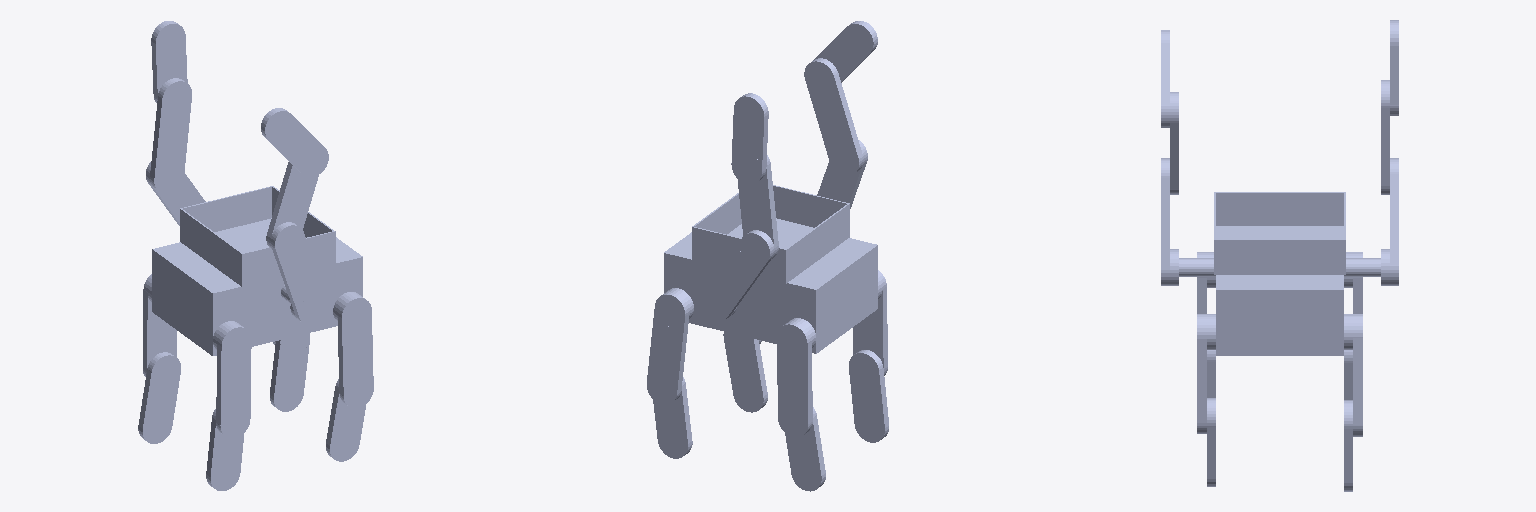
--- Facts derived from the render (not from the file) ---
Views: 3 orthographic renders of the robot side by side, from view 1: azimuth 30°, elevation 25°; view 2: azimuth 150°, elevation 25°; view 3: azimuth 270°, elevation 25°.
Robot: Project2_Assembly — 37 links, 36 joints (14 continuous, 22 fixed); root link dummy_link; default pose: all joints at 0.
Links seen in each view (by area): view 1: base_link, platform_link, right_arm_link5, right_arm_link3, left_front_hip_link1, left_rear_hip_link1, right_rear_knee_link1, left_arm_link3, left_rear_knee_link1, left_arm_link5, right_front_knee_link1, left_arm_link1 (+13 smaller); view 2: base_link, platform_link, left_arm_link3, right_arm_link5, right_front_hip_link1, right_rear_hip_link1, left_front_knee_link1, right_arm_link3, left_rear_knee_link1, left_arm_link5, right_rear_knee_link1, right_arm_link1 (+13 smaller); view 3: platform_link, base_link, right_arm_link, left_arm_link, right_rear_hip_link1, left_rear_hip_link1, left_arm_link1, right_arm_link1, right_arm_link5, right_arm_link3, left_arm_link5, left_arm_link3 (+4 smaller).
Boxes of the visible links, x1,y1,x2,y2 form: base_link: [152, 237, 362, 355]; platform_link: [180, 186, 335, 286]; right_arm_link5: [151, 21, 187, 97]; right_arm_link3: [150, 97, 191, 178]; left_front_hip_link1: [216, 341, 251, 425]; left_rear_hip_link1: [337, 314, 373, 395]; right_rear_knee_link1: [270, 341, 309, 411]; left_arm_link3: [267, 162, 318, 235]; left_rear_knee_link1: [326, 387, 365, 461]; left_arm_link5: [261, 108, 323, 172]; right_front_knee_link1: [138, 370, 180, 443]; left_arm_link1: [272, 237, 327, 317]; base_link: [664, 232, 877, 353]; platform_link: [692, 185, 849, 283]; left_arm_link3: [805, 73, 862, 157]; right_arm_link5: [731, 93, 768, 171]; right_front_hip_link1: [777, 341, 812, 423]; right_rear_hip_link1: [647, 309, 689, 393]; left_front_knee_link1: [849, 368, 888, 442]; right_arm_link3: [738, 164, 778, 247]; left_rear_knee_link1: [724, 339, 767, 412]; left_arm_link5: [814, 21, 877, 82]; right_rear_knee_link1: [653, 384, 692, 458]; right_arm_link1: [703, 240, 770, 318]; platform_link: [1214, 192, 1345, 274]; base_link: [1216, 275, 1343, 355]; right_arm_link: [1344, 249, 1398, 285]; left_arm_link: [1161, 249, 1215, 285]; right_rear_hip_link1: [1353, 338, 1362, 424]; left_rear_hip_link1: [1197, 339, 1206, 422]; left_arm_link1: [1161, 178, 1169, 269]; right_arm_link1: [1390, 174, 1398, 264]; right_arm_link5: [1390, 20, 1398, 104]; right_arm_link3: [1381, 108, 1389, 185]; left_arm_link5: [1161, 30, 1169, 104]; left_arm_link3: [1170, 123, 1178, 188].
Bounding box of the posed robot: 0.2837 × 0.3302 × 0.6388 m (x, y, z).
Meshes: 36 distinct files referenced, 36 mesh visuals loaded (36 binary STL).

robot.urdf — Project2_Assembly:
<?xml version="1.0" encoding="utf-8"?>
<!-- This URDF was automatically created by SolidWorks to URDF Exporter! Originally created by Stephen Brawner ([email redacted]) 
     Commit Version: 1.5.1-0-g916b5db  Build Version: 1.5.7152.31018
     For more information, please see http://wiki.ros.org/sw_urdf_exporter -->
<robot
  name="Project2_Assembly">
  <link
    name="dummy_link">
  </link>
  <joint
    name="dummy_joint"
    type="fixed">
    <parent
      link="dummy_link" />
    <child
      link="base_link" />
  </joint>
  <link
    name="base_link">
    <inertial>
      <origin
        xyz="-0.185748920268411 0.185789407892482 -0.798271405453909"
        rpy="0 0 0" />
      <mass
        value="4.36700755653188" />
      <inertia
        ixx="0.030365726134738"
        ixy="0.00652149162392971"
        ixz="0.00297506888940774"
        iyy="0.0178204642076725"
        iyz="0.000563260489121419"
        izz="0.0284925976105569" />
    </inertial>
    <visual>
      <origin
        xyz="0 0 0"
        rpy="0 0 0" />
      <geometry>
        <mesh
          filename="package://Project2_Assembly/meshes/base_link.STL" />
      </geometry>
      <material
        name="">
        <color
          rgba="0.792156862745098 0.819607843137255 0.933333333333333 1" />
      </material>
    </visual>
    <collision>
      <origin
        xyz="0 0 0"
        rpy="0 0 0" />
      <geometry>
        <mesh
          filename="package://Project2_Assembly/meshes/base_link.STL" />
      </geometry>
    </collision>
  </link>
  <link
    name="platform_link">
    <inertial>
      <origin
        xyz="8.32667268468867E-17 -5.55111512312578E-17 0.00454448000326668"
        rpy="0 0 0" />
      <mass
        value="0.221453327467568" />
      <inertia
        ixx="0.000766812354982266"
        ixy="3.04931861011548E-20"
        ixz="-1.01813360259967E-18"
        iyy="0.00100112681592481"
        iyz="1.21972744404619E-18"
        izz="0.00157928891231331" />
    </inertial>
    <visual>
      <origin
        xyz="0 0 0"
        rpy="0 0 0" />
      <geometry>
        <mesh
          filename="package://Project2_Assembly/meshes/platform_link.STL" />
      </geometry>
      <material
        name="">
        <color
          rgba="0.792156862745098 0.819607843137255 0.933333333333333 1" />
      </material>
    </visual>
    <collision>
      <origin
        xyz="0 0 0"
        rpy="0 0 0" />
      <geometry>
        <mesh
          filename="package://Project2_Assembly/meshes/platform_link.STL" />
      </geometry>
    </collision>
  </link>
  <joint
    name="platform_joint"
    type="fixed">
    <origin
      xyz="0 0 0"
      rpy="0 0 1.5707963267949" />
    <parent
      link="base_link" />
    <child
      link="platform_link" />
    <axis
      xyz="0 0 0" />
  </joint>
  <link
    name="left_arm_link">
    <inertial>
      <origin
        xyz="5.55111512312578E-17 -1.11022302462516E-16 0.0269203616457798"
        rpy="0 0 0" />
      <mass
        value="0.0772222198144585" />
      <inertia
        ixx="4.25551704324029E-05"
        ixy="1.6940658945086E-21"
        ixz="-2.5410988417629E-20"
        iyy="4.25551704324029E-05"
        iyz="9.95396061921811E-20"
        izz="1.8682757750811E-05" />
    </inertial>
    <visual>
      <origin
        xyz="0 0 0"
        rpy="0 0 0" />
      <geometry>
        <mesh
          filename="package://Project2_Assembly/meshes/left_arm_link.STL" />
      </geometry>
      <material
        name="">
        <color
          rgba="0.792156862745098 0.819607843137255 0.933333333333333 1" />
      </material>
    </visual>
    <collision>
      <origin
        xyz="0 0 0"
        rpy="0 0 0" />
      <geometry>
        <mesh
          filename="package://Project2_Assembly/meshes/left_arm_link.STL" />
      </geometry>
    </collision>
  </link>
  <joint
    name="left_arm_joint"
    type="fixed">
    <origin
      xyz="0 -0.112779638354221 -0.0279400000000001"
      rpy="-1.57079632679486 1.49005517178331 -3.14159265358976" />
    <parent
      link="base_link" />
    <child
      link="left_arm_link" />
    <axis
      xyz="0 0 1" />
  </joint>
  <link
    name="left_arm_link1">
    <inertial>
      <origin
        xyz="0.0634999999999999 -7.76462227847219E-14 0.0040296383542201"
        rpy="0 0 0" />
      <mass
        value="0.0561945800618472" />
      <inertia
        ixx="1.42240417239566E-05"
        ixy="2.92460359654413E-17"
        ixz="-4.70103285726137E-20"
        iyy="3.81793048154064E-05"
        iyz="8.470329472543E-21"
        izz="5.08927425696672E-05" />
    </inertial>
    <visual>
      <origin
        xyz="0 0 0"
        rpy="0 0 0" />
      <geometry>
        <mesh
          filename="package://Project2_Assembly/meshes/left_arm_link1.STL" />
      </geometry>
      <material
        name="">
        <color
          rgba="0.792156862745098 0.819607843137255 0.933333333333333 1" />
      </material>
    </visual>
    <collision>
      <origin
        xyz="0 0 0"
        rpy="0 0 0" />
      <geometry>
        <mesh
          filename="package://Project2_Assembly/meshes/left_arm_link1.STL" />
      </geometry>
    </collision>
  </link>
  <joint
    name="left_arm_joint1"
    type="continuous">
    <origin
      xyz="0 0 0.0499999999999999"
      rpy="3.14159265358979 0 -2.73383166744153" />
    <parent
      link="left_arm_link" />
    <child
      link="left_arm_link1" />
    <axis
      xyz="0 0 1" />
  </joint>
  <link
    name="left_arm_link2">
    <inertial>
      <origin
        xyz="-1.52655665885959E-15 2.4980018054066E-16 -0.0103796383542208"
        rpy="0 0 0" />
      <mass
        value="0.0514814798763058" />
      <inertia
        ixx="1.10712638523325E-05"
        ixy="4.76456032830544E-22"
        ixz="-1.48230765769503E-20"
        iyy="1.10712638523325E-05"
        iyz="1.47171974585435E-20"
        izz="1.66068957784987E-05" />
    </inertial>
    <visual>
      <origin
        xyz="0 0 0"
        rpy="0 0 0" />
      <geometry>
        <mesh
          filename="package://Project2_Assembly/meshes/left_arm_link2.STL" />
      </geometry>
      <material
        name="">
        <color
          rgba="0.792156862745098 0.819607843137255 0.933333333333333 1" />
      </material>
    </visual>
    <collision>
      <origin
        xyz="0 0 0"
        rpy="0 0 0" />
      <geometry>
        <mesh
          filename="package://Project2_Assembly/meshes/left_arm_link2.STL" />
      </geometry>
    </collision>
  </link>
  <joint
    name="left_arm_joint2"
    type="fixed">
    <origin
      xyz="0.127 0 0"
      rpy="-3.14159265358979 0 0.141401224368281" />
    <parent
      link="left_arm_link1" />
    <child
      link="left_arm_link2" />
    <axis
      xyz="0 0 1" />
  </joint>
  <link
    name="left_arm_link3">
    <inertial>
      <origin
        xyz="0.0635000000000196 6.46704911844154E-15 0.00445605177225594"
        rpy="0 0 0" />
      <mass
        value="0.0561945800618472" />
      <inertia
        ixx="1.42240417239566E-05"
        ixy="4.89690922631392E-20"
        ixz="1.63053842346453E-19"
        iyy="3.81793048154064E-05"
        iyz="-3.87517573368842E-20"
        izz="5.08927425696671E-05" />
    </inertial>
    <visual>
      <origin
        xyz="0 0 0"
        rpy="0 0 0" />
      <geometry>
        <mesh
          filename="package://Project2_Assembly/meshes/left_arm_link3.STL" />
      </geometry>
      <material
        name="">
        <color
          rgba="0.792156862745098 0.819607843137255 0.933333333333333 1" />
      </material>
    </visual>
    <collision>
      <origin
        xyz="0 0 0"
        rpy="0 0 0" />
      <geometry>
        <mesh
          filename="package://Project2_Assembly/meshes/left_arm_link3.STL" />
      </geometry>
    </collision>
  </link>
  <joint
    name="left_arm_joint3"
    type="continuous">
    <origin
      xyz="0 0 -0.0122735865819643"
      rpy="3.14159265358979 0 -0.51044745877229" />
    <parent
      link="left_arm_link2" />
    <child
      link="left_arm_link3" />
    <axis
      xyz="0 0 1" />
  </joint>
  <link
    name="left_arm_link4">
    <inertial>
      <origin
        xyz="1.13797860024079E-14 1.6903145549918E-14 -0.00189394822774391"
        rpy="0 0 0" />
      <mass
        value="0.0514814798763058" />
      <inertia
        ixx="1.10712638523325E-05"
        ixy="2.11758236813575E-22"
        ixz="-3.3881317890172E-21"
        iyy="1.10712638523325E-05"
        iyz="1.05879118406788E-21"
        izz="1.66068957784987E-05" />
    </inertial>
    <visual>
      <origin
        xyz="0 0 0"
        rpy="0 0 0" />
      <geometry>
        <mesh
          filename="package://Project2_Assembly/meshes/left_arm_link4.STL" />
      </geometry>
      <material
        name="">
        <color
          rgba="0.792156862745098 0.819607843137255 0.933333333333333 1" />
      </material>
    </visual>
    <collision>
      <origin
        xyz="0 0 0"
        rpy="0 0 0" />
      <geometry>
        <mesh
          filename="package://Project2_Assembly/meshes/left_arm_link4.STL" />
      </geometry>
    </collision>
  </link>
  <joint
    name="left_arm_joint4"
    type="fixed">
    <origin
      xyz="0.12700000000002 0 0"
      rpy="0 0 2.25512297298652" />
    <parent
      link="left_arm_link3" />
    <child
      link="left_arm_link4" />
    <axis
      xyz="0 0 1" />
  </joint>
  <link
    name="left_arm_link5">
    <inertial>
      <origin
        xyz="-0.0643991133502865 -7.39686090156511E-14 0.00824394822774355"
        rpy="0 0 0" />
      <mass
        value="0.0573547240000001" />
      <inertia
        ixx="1.31052198647767E-05"
        ixy="-2.4546591294956E-17"
        ixz="1.35737029797502E-19"
        iyy="4.03881189381033E-05"
        iyz="4.2351647362715E-21"
        izz="5.19515482305533E-05" />
    </inertial>
    <visual>
      <origin
        xyz="0 0 0"
        rpy="0 0 0" />
      <geometry>
        <mesh
          filename="package://Project2_Assembly/meshes/left_arm_link5.STL" />
      </geometry>
      <material
        name="">
        <color
          rgba="0.792156862745098 0.819607843137255 0.933333333333333 1" />
      </material>
    </visual>
    <collision>
      <origin
        xyz="0 0 0"
        rpy="0 0 0" />
      <geometry>
        <mesh
          filename="package://Project2_Assembly/meshes/left_arm_link5.STL" />
      </geometry>
    </collision>
  </link>
  <joint
    name="left_arm_joint5"
    type="continuous">
    <origin
      xyz="0 0 0"
      rpy="3.14159265358979 0 -0.136200538453035" />
    <parent
      link="left_arm_link4" />
    <child
      link="left_arm_link5" />
    <axis
      xyz="0 0 1" />
  </joint>
  <link
    name="left_arm_dummy_link">
    <inertial>
      <origin
        xyz="0.0245008866497048 0.0254 0.00635000000000008"
        rpy="0 0 0" />
      <mass
        value="0.0573547240000001" />
      <inertia
        ixx="1.31052198647767E-05"
        ixy="5.11396141904784E-20"
        ixz="5.9292306307801E-20"
        iyy="4.03881189381033E-05"
        iyz="-1.77876918923403E-20"
        izz="5.19515482305533E-05" />
    </inertial>
    <visual>
      <origin
        xyz="0 0 0"
        rpy="0 0 0" />
      <geometry>
        <mesh
          filename="package://Project2_Assembly/meshes/left_arm_dummy_link.STL" />
      </geometry>
      <material
        name="">
        <color
          rgba="0.792156862745098 0.819607843137255 0.933333333333333 1" />
      </material>
    </visual>
    <collision>
      <origin
        xyz="0 0 0"
        rpy="0 0 0" />
      <geometry>
        <mesh
          filename="package://Project2_Assembly/meshes/left_arm_dummy_link.STL" />
      </geometry>
    </collision>
  </link>
  <joint
    name="left_arm_dummy_joint"
    type="fixed">
    <origin
      xyz="-0.0888999999999685 -0.0254000000000961 0.00189394822774358"
      rpy="0 0 0" />
    <parent
      link="left_arm_link5" />
    <child
      link="left_arm_dummy_link" />
    <axis
      xyz="0 0 0" />
  </joint>
  <link
    name="right_arm_link">
    <inertial>
      <origin
        xyz="5.55111512312578E-17 2.08166817117217E-15 0.0270180534713057"
        rpy="0 0 0" />
      <mass
        value="0.0772222198144587" />
      <inertia
        ixx="4.2555170432403E-05"
        ixy="-1.85288457211878E-22"
        ixz="6.22569216231911E-20"
        iyy="4.2555170432403E-05"
        iyz="-4.31457407507659E-20"
        izz="1.86827577508111E-05" />
    </inertial>
    <visual>
      <origin
        xyz="0 0 0"
        rpy="0 0 0" />
      <geometry>
        <mesh
          filename="package://Project2_Assembly/meshes/right_arm_link.STL" />
      </geometry>
      <material
        name="">
        <color
          rgba="0.792156862745098 0.819607843137255 0.933333333333333 1" />
      </material>
    </visual>
    <collision>
      <origin
        xyz="0 0 0"
        rpy="0 0 0" />
      <geometry>
        <mesh
          filename="package://Project2_Assembly/meshes/right_arm_link.STL" />
      </geometry>
    </collision>
  </link>
  <joint
    name="right_arm_joint"
    type="fixed">
    <origin
      xyz="0 0.112681946528693 -0.0279400000000012"
      rpy="1.57079632679492 1.49631531067135 -3.14159265358978" />
    <parent
      link="base_link" />
    <child
      link="right_arm_link" />
    <axis
      xyz="0 0 1" />
  </joint>
  <link
    name="right_arm_link1">
    <inertial>
      <origin
        xyz="0.0635000000000006 1.97064586870965E-15 0.00190156102875016"
        rpy="0 0 0" />
      <mass
        value="0.0561945800618471" />
      <inertia
        ixx="1.42240417239566E-05"
        ixy="2.35051642863068E-20"
        ixz="-3.0916702574782E-20"
        iyy="3.81793048154063E-05"
        iyz="-1.35525271560688E-20"
        izz="5.08927425696671E-05" />
    </inertial>
    <visual>
      <origin
        xyz="0 0 0"
        rpy="0 0 0" />
      <geometry>
        <mesh
          filename="package://Project2_Assembly/meshes/right_arm_link1.STL" />
      </geometry>
      <material
        name="">
        <color
          rgba="0.792156862745098 0.819607843137255 0.933333333333333 1" />
      </material>
    </visual>
    <collision>
      <origin
        xyz="0 0 0"
        rpy="0 0 0" />
      <geometry>
        <mesh
          filename="package://Project2_Assembly/meshes/right_arm_link1.STL" />
      </geometry>
    </collision>
  </link>
  <joint
    name="right_arm_joint1"
    type="continuous">
    <origin
      xyz="0 0 0.0441664924425549"
      rpy="0 0 2.49526943677936" />
    <parent
      link="right_arm_link" />
    <child
      link="right_arm_link1" />
    <axis
      xyz="0 0 1" />
  </joint>
  <link
    name="right_arm_link2">
    <inertial>
      <origin
        xyz="-2.77555756156289E-17 -2.77555756156289E-17 -0.00444843897124922"
        rpy="0 0 0" />
      <mass
        value="0.0514814798763058" />
      <inertia
        ixx="1.10712638523325E-05"
        ixy="-1.00150892664858E-21"
        ixz="-3.93158945146454E-21"
        iyy="1.10712638523325E-05"
        iyz="-5.0821976835258E-21"
        izz="1.66068957784987E-05" />
    </inertial>
    <visual>
      <origin
        xyz="0 0 0"
        rpy="0 0 0" />
      <geometry>
        <mesh
          filename="package://Project2_Assembly/meshes/right_arm_link2.STL" />
      </geometry>
      <material
        name="">
        <color
          rgba="0.792156862745098 0.819607843137255 0.933333333333333 1" />
      </material>
    </visual>
    <collision>
      <origin
        xyz="0 0 0"
        rpy="0 0 0" />
      <geometry>
        <mesh
          filename="package://Project2_Assembly/meshes/right_arm_link2.STL" />
      </geometry>
    </collision>
  </link>
  <joint
    name="right_arm_joint2"
    type="fixed">
    <origin
      xyz="0.127 0 0"
      rpy="0 0 2.2545" />
    <parent
      link="right_arm_link1" />
    <child
      link="right_arm_link2" />
    <axis
      xyz="0 0 1" />
  </joint>
  <link
    name="right_arm_link3">
    <inertial>
      <origin
        xyz="0.0635000000000153 1.44606548957427E-14 -0.0107984389712492"
        rpy="0 0 0" />
      <mass
        value="0.056194580061847" />
      <inertia
        ixx="1.42240417239566E-05"
        ixy="-1.42010367563104E-19"
        ixz="-3.81164826264435E-21"
        iyy="3.81793048154062E-05"
        iyz="-1.84494363823827E-20"
        izz="5.08927425696669E-05" />
    </inertial>
    <visual>
      <origin
        xyz="0 0 0"
        rpy="0 0 0" />
      <geometry>
        <mesh
          filename="package://Project2_Assembly/meshes/right_arm_link3.STL" />
      </geometry>
      <material
        name="">
        <color
          rgba="0.792156862745098 0.819607843137255 0.933333333333333 1" />
      </material>
    </visual>
    <collision>
      <origin
        xyz="0 0 0"
        rpy="0 0 0" />
      <geometry>
        <mesh
          filename="package://Project2_Assembly/meshes/right_arm_link3.STL" />
      </geometry>
    </collision>
  </link>
  <joint
    name="right_arm_joint3"
    type="continuous">
    <origin
      xyz="0 0 0"
      rpy="0 0 -1.57576453791578" />
    <parent
      link="right_arm_link2" />
    <child
      link="right_arm_link3" />
    <axis
      xyz="0 0 1" />
  </joint>
  <link
    name="right_arm_link4">
    <inertial>
      <origin
        xyz="-1.15740750317173E-14 -9.99200722162641E-15 0.00444843897124952"
        rpy="0 0 0" />
      <mass
        value="0.0514814798763058" />
      <inertia
        ixx="1.10712638523325E-05"
        ixy="-4.2351647362715E-22"
        ixz="2.96461531539005E-21"
        iyy="1.10712638523325E-05"
        iyz="-4.2351647362715E-21"
        izz="1.66068957784987E-05" />
    </inertial>
    <visual>
      <origin
        xyz="0 0 0"
        rpy="0 0 0" />
      <geometry>
        <mesh
          filename="package://Project2_Assembly/meshes/right_arm_link4.STL" />
      </geometry>
      <material
        name="">
        <color
          rgba="0.792156862745098 0.819607843137255 0.933333333333333 1" />
      </material>
    </visual>
    <collision>
      <origin
        xyz="0 0 0"
        rpy="0 0 0" />
      <geometry>
        <mesh
          filename="package://Project2_Assembly/meshes/right_arm_link4.STL" />
      </geometry>
    </collision>
  </link>
  <joint
    name="right_arm_joint4"
    type="fixed">
    <origin
      xyz="0.127000000000015 0 0"
      rpy="3.14159265358979 0 0.791256864324291" />
    <parent
      link="right_arm_link3" />
    <child
      link="right_arm_link4" />
    <axis
      xyz="0 0 1" />
  </joint>
  <link
    name="right_arm_link5">
    <inertial>
      <origin
        xyz="-0.0643991133502805 -1.00697228333502E-13 -0.00190156102875053"
        rpy="0 0 0" />
      <mass
        value="0.057354724" />
      <inertia
        ixx="1.31052198647767E-05"
        ixy="-4.07117651070511E-17"
        ixz="4.31986803099693E-20"
        iyy="4.03881189381032E-05"
        iyz="-1.05879118406788E-21"
        izz="5.19515482305532E-05" />
    </inertial>
    <visual>
      <origin
        xyz="0 0 0"
        rpy="0 0 0" />
      <geometry>
        <mesh
          filename="package://Project2_Assembly/meshes/right_arm_link5.STL" />
      </geometry>
      <material
        name="">
        <color
          rgba="0.792156862745098 0.819607843137255 0.933333333333333 1" />
      </material>
    </visual>
    <collision>
      <origin
        xyz="0 0 0"
        rpy="0 0 0" />
      <geometry>
        <mesh
          filename="package://Project2_Assembly/meshes/right_arm_link5.STL" />
      </geometry>
    </collision>
  </link>
  <joint
    name="right_arm_joint5"
    type="continuous">
    <origin
      xyz="0 0 0"
      rpy="0 0 -2.2001" />
    <parent
      link="right_arm_link4" />
    <child
      link="right_arm_link5" />
    <axis
      xyz="0 0 1" />
  </joint>
  <link
    name="right_arm_dummy_link">
    <inertial>
      <origin
        xyz="0.0245008866497046 0.0253999999999988 0.00634999999999999"
        rpy="0 0 0" />
      <mass
        value="0.057354724" />
      <inertia
        ixx="1.31052198647767E-05"
        ixy="8.99972506457694E-21"
        ixz="1.99052742604761E-20"
        iyy="4.03881189381032E-05"
        iyz="-8.89384594617015E-21"
        izz="5.19515482305532E-05" />
    </inertial>
    <visual>
      <origin
        xyz="0 0 0"
        rpy="0 0 0" />
      <geometry>
        <mesh
          filename="package://Project2_Assembly/meshes/right_arm_dummy_link.STL" />
      </geometry>
      <material
        name="">
        <color
          rgba="0.792156862745098 0.819607843137255 0.933333333333333 1" />
      </material>
    </visual>
    <collision>
      <origin
        xyz="0 0 0"
        rpy="0 0 0" />
      <geometry>
        <mesh
          filename="package://Project2_Assembly/meshes/right_arm_dummy_link.STL" />
      </geometry>
    </collision>
  </link>
  <joint
    name="right_arm_dummy_joint"
    type="fixed">
    <origin
      xyz="-0.0888999999999474 -0.0254000000001373 -0.00825156102875052"
      rpy="0 0 0" />
    <parent
      link="right_arm_link5" />
    <child
      link="right_arm_dummy_link" />
    <axis
      xyz="0 0 0" />
  </joint>
  <link
    name="left_rear_hip_link">
    <inertial>
      <origin
        xyz="0 -2.77555756156289E-17 1.11022302462516E-16"
        rpy="0 0 0" />
      <mass
        value="0.0772222198144587" />
      <inertia
        ixx="4.2555170432403E-05"
        ixy="8.470329472543E-22"
        ixz="2.03287907341032E-20"
        iyy="4.2555170432403E-05"
        iyz="-3.89635155736978E-20"
        izz="1.86827577508111E-05" />
    </inertial>
    <visual>
      <origin
        xyz="0 0 0"
        rpy="0 0 0" />
      <geometry>
        <mesh
          filename="package://Project2_Assembly/meshes/left_rear_hip_link.STL" />
      </geometry>
      <material
        name="">
        <color
          rgba="0.792156862745098 0.819607843137255 0.933333333333333 1" />
      </material>
    </visual>
    <collision>
      <origin
        xyz="0 0 0"
        rpy="0 0 0" />
      <geometry>
        <mesh
          filename="package://Project2_Assembly/meshes/left_rear_hip_link.STL" />
      </geometry>
    </collision>
  </link>
  <joint
    name="left_rear_hip_joint"
    type="fixed">
    <origin
      xyz="0.1016 -0.0889 -0.07874"
      rpy="1.5708 1.3266 0" />
    <parent
      link="base_link" />
    <child
      link="left_rear_hip_link" />
    <axis
      xyz="0 0 0" />
  </joint>
  <link
    name="left_rear_hip_link1">
    <inertial>
      <origin
        xyz="-0.0634999999999989 1.11022302462516E-15 -0.00348570857054564"
        rpy="0 0 0" />
      <mass
        value="0.0561945800618471" />
      <inertia
        ixx="1.42240417239566E-05"
        ixy="-3.08372932359769E-20"
        ixz="1.49501315190384E-19"
        iyy="3.81793048154063E-05"
        iyz="1.33407689192552E-20"
        izz="5.0892742569667E-05" />
    </inertial>
    <visual>
      <origin
        xyz="0 0 0"
        rpy="0 0 0" />
      <geometry>
        <mesh
          filename="package://Project2_Assembly/meshes/left_rear_hip_link1.STL" />
      </geometry>
      <material
        name="">
        <color
          rgba="0.792156862745098 0.819607843137255 0.933333333333333 1" />
      </material>
    </visual>
    <collision>
      <origin
        xyz="0 0 0"
        rpy="0 0 0" />
      <geometry>
        <mesh
          filename="package://Project2_Assembly/meshes/left_rear_hip_link1.STL" />
      </geometry>
    </collision>
  </link>
  <joint
    name="left_rear_hip_joint1"
    type="continuous">
    <origin
      xyz="0 0 0.0155642914294541"
      rpy="-3.14159265358979 0 2.9227694943902" />
    <parent
      link="left_rear_hip_link" />
    <child
      link="left_rear_hip_link1" />
    <axis
      xyz="0 0 1" />
  </joint>
  <link
    name="left_rear_knee_link">
    <inertial>
      <origin
        xyz="5.55111512312578E-17 -1.11022302462516E-16 -0.00286429142945449"
        rpy="0 0 0" />
      <mass
        value="0.0514814798763059" />
      <inertia
        ixx="1.10712638523325E-05"
        ixy="2.11758236813575E-22"
        ixz="-3.0916702574782E-20"
        iyy="1.10712638523325E-05"
        iyz="-1.94817577868489E-20"
        izz="1.66068957784988E-05" />
    </inertial>
    <visual>
      <origin
        xyz="0 0 0"
        rpy="0 0 0" />
      <geometry>
        <mesh
          filename="package://Project2_Assembly/meshes/left_rear_knee_link.STL" />
      </geometry>
      <material
        name="">
        <color
          rgba="0.792156862745098 0.819607843137255 0.933333333333333 1" />
      </material>
    </visual>
    <collision>
      <origin
        xyz="0 0 0"
        rpy="0 0 0" />
      <geometry>
        <mesh
          filename="package://Project2_Assembly/meshes/left_rear_knee_link.STL" />
      </geometry>
    </collision>
  </link>
  <joint
    name="left_rear_knee_joint"
    type="fixed">
    <origin
      xyz="-0.127 0 0"
      rpy="3.14159265358979 0 1.22925344599165" />
    <parent
      link="left_rear_hip_link1" />
    <child
      link="left_rear_knee_link" />
    <axis
      xyz="0 0 1" />
  </joint>
  <link
    name="left_rear_knee_link1">
    <inertial>
      <origin
        xyz="-0.0643991133502946 -3.27515792264421E-15 0.00921429142945451"
        rpy="0 0 0" />
      <mass
        value="0.0573547240000001" />
      <inertia
        ixx="1.31052198647767E-05"
        ixy="-1.33614153473446E-18"
        ixz="-6.01393392550553E-20"
        iyy="4.03881189381034E-05"
        iyz="-6.35274710440725E-22"
        izz="5.19515482305534E-05" />
    </inertial>
    <visual>
      <origin
        xyz="0 0 0"
        rpy="0 0 0" />
      <geometry>
        <mesh
          filename="package://Project2_Assembly/meshes/left_rear_knee_link1.STL" />
      </geometry>
      <material
        name="">
        <color
          rgba="0.792156862745098 0.819607843137255 0.933333333333333 1" />
      </material>
    </visual>
    <collision>
      <origin
        xyz="0 0 0"
        rpy="0 0 0" />
      <geometry>
        <mesh
          filename="package://Project2_Assembly/meshes/left_rear_knee_link1.STL" />
      </geometry>
    </collision>
  </link>
  <joint
    name="left_rear_knee_joint1"
    type="continuous">
    <origin
      xyz="0 0 0"
      rpy="3.14159265358979 0 1.02130634175399" />
    <parent
      link="left_rear_knee_link" />
    <child
      link="left_rear_knee_link1" />
    <axis
      xyz="0 0 1" />
  </joint>
  <link
    name="left_rear_dummy_link">
    <inertial>
      <origin
        xyz="0.0245008866497048 0.0254 0.00635000000000019"
        rpy="0 0 0" />
      <mass
        value="0.0573547240000001" />
      <inertia
        ixx="1.31052198647767E-05"
        ixy="2.45110159111713E-20"
        ixz="-5.9292306307801E-20"
        iyy="4.03881189381034E-05"
        iyz="2.85873619698326E-21"
        izz="5.19515482305534E-05" />
    </inertial>
    <visual>
      <origin
        xyz="0 0 0"
        rpy="0 0 0" />
      <geometry>
        <mesh
          filename="package://Project2_Assembly/meshes/left_rear_dummy_link.STL" />
      </geometry>
      <material
        name="">
        <color
          rgba="0.792156862745098 0.819607843137255 0.933333333333333 1" />
      </material>
    </visual>
    <collision>
      <origin
        xyz="0 0 0"
        rpy="0 0 0" />
      <geometry>
        <mesh
          filename="package://Project2_Assembly/meshes/left_rear_dummy_link.STL" />
      </geometry>
    </collision>
  </link>
  <joint
    name="left_rear_dummy_joint"
    type="fixed">
    <origin
      xyz="-0.0888999999999984 -0.0254000000000045 0.00286429142945438"
      rpy="0 0 0" />
    <parent
      link="left_rear_knee_link1" />
    <child
      link="left_rear_dummy_link" />
    <axis
      xyz="0 0 0" />
  </joint>
  <link
    name="left_front_hip_link">
    <inertial>
      <origin
        xyz="-5.55111512312578E-17 0 -1.11022302462516E-16"
        rpy="0 0 0" />
      <mass
        value="0.0772222198144586" />
      <inertia
        ixx="4.25551704324029E-05"
        ixy="-2.91167575618666E-21"
        ixz="7.83505476210228E-20"
        iyy="4.25551704324029E-05"
        iyz="-1.84759061619844E-20"
        izz="1.8682757750811E-05" />
    </inertial>
    <visual>
      <origin
        xyz="0 0 0"
        rpy="0 0 0" />
      <geometry>
        <mesh
          filename="package://Project2_Assembly/meshes/left_front_hip_link.STL" />
      </geometry>
      <material
        name="">
        <color
          rgba="0.792156862745098 0.819607843137255 0.933333333333333 1" />
      </material>
    </visual>
    <collision>
      <origin
        xyz="0 0 0"
        rpy="0 0 0" />
      <geometry>
        <mesh
          filename="package://Project2_Assembly/meshes/left_front_hip_link.STL" />
      </geometry>
    </collision>
  </link>
  <joint
    name="left_front_hip_joint"
    type="fixed">
    <origin
      xyz="-0.1016 -0.0889 -0.07874"
      rpy="-1.5708 1.4089 3.1416" />
    <parent
      link="base_link" />
    <child
      link="left_front_hip_link" />
    <axis
      xyz="0 0 0" />
  </joint>
  <link
    name="left_front_hip_link1">
    <inertial>
      <origin
        xyz="-0.0634999999999989 3.28903571045203E-15 -0.00413058115419834"
        rpy="0 0 0" />
      <mass
        value="0.0561945800618472" />
      <inertia
        ixx="1.42240417239566E-05"
        ixy="1.79729803495522E-20"
        ixz="3.64224167319349E-20"
        iyy="3.81793048154064E-05"
        iyz="-4.80691197566815E-20"
        izz="5.08927425696672E-05" />
    </inertial>
    <visual>
      <origin
        xyz="0 0 0"
        rpy="0 0 0" />
      <geometry>
        <mesh
          filename="package://Project2_Assembly/meshes/left_front_hip_link1.STL" />
      </geometry>
      <material
        name="">
        <color
          rgba="0.792156862745098 0.819607843137255 0.933333333333333 1" />
      </material>
    </visual>
    <collision>
      <origin
        xyz="0 0 0"
        rpy="0 0 0" />
      <geometry>
        <mesh
          filename="package://Project2_Assembly/meshes/left_front_hip_link1.STL" />
      </geometry>
    </collision>
  </link>
  <joint
    name="left_front_hip_joint1"
    type="continuous">
    <origin
      xyz="0 0 0.0149194188458016"
      rpy="3.14159265358979 0 -2.99385816079686" />
    <parent
      link="left_front_hip_link" />
    <child
      link="left_front_hip_link1" />
    <axis
      xyz="0 0 1" />
  </joint>
  <link
    name="left_front_knee_link">
    <inertial>
      <origin
        xyz="-5.55111512312578E-17 0 -0.00221941884580201"
        rpy="0 0 0" />
      <mass
        value="0.0514814798763057" />
      <inertia
        ixx="1.10712638523324E-05"
        ixy="2.11758236813575E-22"
        ixz="1.03761536038652E-20"
        iyy="1.10712638523324E-05"
        iyz="4.02340649945793E-21"
        izz="1.66068957784987E-05" />
    </inertial>
    <visual>
      <origin
        xyz="0 0 0"
        rpy="0 0 0" />
      <geometry>
        <mesh
          filename="package://Project2_Assembly/meshes/left_front_knee_link.STL" />
      </geometry>
      <material
        name="">
        <color
          rgba="0.792156862745098 0.819607843137255 0.933333333333333 1" />
      </material>
    </visual>
    <collision>
      <origin
        xyz="0 0 0"
        rpy="0 0 0" />
      <geometry>
        <mesh
          filename="package://Project2_Assembly/meshes/left_front_knee_link.STL" />
      </geometry>
    </collision>
  </link>
  <joint
    name="left_front_knee_joint"
    type="fixed">
    <origin
      xyz="-0.127000000000001 0 0"
      rpy="3.14159265358979 0 2.71763994433786" />
    <parent
      link="left_front_hip_link1" />
    <child
      link="left_front_knee_link" />
    <axis
      xyz="0 0 1" />
  </joint>
  <link
    name="left_front_knee_link1">
    <inertial>
      <origin
        xyz="-0.0643991133502949 -9.71445146547012E-16 0.00856941884580165"
        rpy="0 0 0" />
      <mass
        value="0.057354724" />
      <inertia
        ixx="1.31052198647767E-05"
        ixy="-9.67440665939969E-19"
        ixz="-5.84452733605467E-20"
        iyy="4.03881189381033E-05"
        iyz="4.02340649945793E-21"
        izz="5.19515482305533E-05" />
    </inertial>
    <visual>
      <origin
        xyz="0 0 0"
        rpy="0 0 0" />
      <geometry>
        <mesh
          filename="package://Project2_Assembly/meshes/left_front_knee_link1.STL" />
      </geometry>
      <material
        name="">
        <color
          rgba="0.792156862745098 0.819607843137255 0.933333333333333 1" />
      </material>
    </visual>
    <collision>
      <origin
        xyz="0 0 0"
        rpy="0 0 0" />
      <geometry>
        <mesh
          filename="package://Project2_Assembly/meshes/left_front_knee_link1.STL" />
      </geometry>
    </collision>
  </link>
  <joint
    name="left_front_knee_joint1"
    type="continuous">
    <origin
      xyz="0 0 0"
      rpy="-3.14159265358979 0 2.62289732606784" />
    <parent
      link="left_front_knee_link" />
    <child
      link="left_front_knee_link1" />
    <axis
      xyz="0 0 1" />
  </joint>
  <link
    name="left_front_dummy_link">
    <inertial>
      <origin
        xyz="0.0245008866497048 0.0254000000000001 0.00634999999999991"
        rpy="0 0 0" />
      <mass
        value="0.057354724" />
      <inertia
        ixx="1.31052198647767E-05"
        ixy="-1.02117928161509E-19"
        ixz="8.42797782518029E-20"
        iyy="4.03881189381033E-05"
        iyz="4.74073752666391E-20"
        izz="5.19515482305533E-05" />
    </inertial>
    <visual>
      <origin
        xyz="0 0 0"
        rpy="0 0 0" />
      <geometry>
        <mesh
          filename="package://Project2_Assembly/meshes/left_front_dummy_link.STL" />
      </geometry>
      <material
        name="">
        <color
          rgba="0.792156862745098 0.819607843137255 0.933333333333333 1" />
      </material>
    </visual>
    <collision>
      <origin
        xyz="0 0 0"
        rpy="0 0 0" />
      <geometry>
        <mesh
          filename="package://Project2_Assembly/meshes/left_front_dummy_link.STL" />
      </geometry>
    </collision>
  </link>
  <joint
    name="left_front_dummy_joint"
    type="fixed">
    <origin
      xyz="-0.0888999999999987 -0.0254000000000019 0.00221941884580146"
      rpy="0 0 0" />
    <parent
      link="left_front_knee_link1" />
    <child
      link="left_front_dummy_link" />
    <axis
      xyz="0 0 0" />
  </joint>
  <link
    name="right_front_hip_link">
    <inertial>
      <origin
        xyz="1.38777878078145E-17 5.55111512312578E-17 0.0271859005085105"
        rpy="0 0 0" />
      <mass
        value="0.0772222198144587" />
      <inertia
        ixx="4.25551704324029E-05"
        ixy="-2.38228016415272E-22"
        ixz="-7.70270586409379E-21"
        iyy="4.25551704324029E-05"
        iyz="-4.06575814682064E-20"
        izz="1.86827577508111E-05" />
    </inertial>
    <visual>
      <origin
        xyz="0 0 0"
        rpy="0 0 0" />
      <geometry>
        <mesh
          filename="package://Project2_Assembly/meshes/right_front_hip_link.STL" />
      </geometry>
      <material
        name="">
        <color
          rgba="0.792156862745098 0.819607843137255 0.933333333333333 1" />
      </material>
    </visual>
    <collision>
      <origin
        xyz="0 0 0"
        rpy="0 0 0" />
      <geometry>
        <mesh
          filename="package://Project2_Assembly/meshes/right_front_hip_link.STL" />
      </geometry>
    </collision>
  </link>
  <joint
    name="right_front_hip_joint"
    type="fixed">
    <origin
      xyz="-0.1016 0.061714 -0.07874"
      rpy="1.5708 -0.063777 3.1416" />
    <parent
      link="base_link" />
    <child
      link="right_front_hip_link" />
    <axis
      xyz="0 0 1" />
  </joint>
  <link
    name="right_front_hip_link1">
    <inertial>
      <origin
        xyz="0.0635000000000002 -1.61759494687885E-13 0.0040748192125461"
        rpy="0 0 0" />
      <mass
        value="0.056194580061847" />
      <inertia
        ixx="1.42240417239566E-05"
        ixy="6.100495398759E-17"
        ixz="5.46336250979024E-20"
        iyy="3.81793048154062E-05"
        iyz="-1.42936809849163E-20"
        izz="5.08927425696669E-05" />
    </inertial>
    <visual>
      <origin
        xyz="0 0 0"
        rpy="0 0 0" />
      <geometry>
        <mesh
          filename="package://Project2_Assembly/meshes/right_front_hip_link1.STL" />
      </geometry>
      <material
        name="">
        <color
          rgba="0.792156862745098 0.819607843137255 0.933333333333333 1" />
      </material>
    </visual>
    <collision>
      <origin
        xyz="0 0 0"
        rpy="0 0 0" />
      <geometry>
        <mesh
          filename="package://Project2_Assembly/meshes/right_front_hip_link1.STL" />
      </geometry>
    </collision>
  </link>
  <joint
    name="right_front_hip_joint1"
    type="continuous">
    <origin
      xyz="0 0 0.0421610812959619"
      rpy="0 0 -1.62386123679691" />
    <parent
      link="right_front_hip_link" />
    <child
      link="right_front_hip_link1" />
    <axis
      xyz="0 0 1" />
  </joint>
  <link
    name="right_front_knee_link">
    <inertial>
      <origin
        xyz="0 0 -0.00227518078745398"
        rpy="0 0 0" />
      <mass
        value="0.0514814798763057" />
      <inertia
        ixx="1.10712638523325E-05"
        ixy="-4.2351647362715E-22"
        ixz="1.65171424714589E-20"
        iyy="1.10712638523324E-05"
        iyz="8.68208770935658E-21"
        izz="1.66068957784987E-05" />
    </inertial>
    <visual>
      <origin
        xyz="0 0 0"
        rpy="0 0 0" />
      <geometry>
        <mesh
          filename="package://Project2_Assembly/meshes/right_front_knee_link.STL" />
      </geometry>
      <material
        name="">
        <color
          rgba="0.792156862745098 0.819607843137255 0.933333333333333 1" />
      </material>
    </visual>
    <collision>
      <origin
        xyz="0 0 0"
        rpy="0 0 0" />
      <geometry>
        <mesh
          filename="package://Project2_Assembly/meshes/right_front_knee_link.STL" />
      </geometry>
    </collision>
  </link>
  <joint
    name="right_front_knee_joint"
    type="fixed">
    <origin
      xyz="0.127 0 0"
      rpy="0 0 -2.53988297981886" />
    <parent
      link="right_front_hip_link1" />
    <child
      link="right_front_knee_link" />
    <axis
      xyz="0 0 1" />
  </joint>
  <link
    name="right_front_knee_link1">
    <inertial>
      <origin
        xyz="-0.0643991133502952 -1.66533453693773E-16 -0.00862518078745406"
        rpy="0 0 0" />
      <mass
        value="0.0573547240000001" />
      <inertia
        ixx="1.31052198647767E-05"
        ixy="-5.85776222585552E-20"
        ixz="-2.45639554703747E-20"
        iyy="4.03881189381034E-05"
        iyz="2.00111533788828E-20"
        izz="5.19515482305535E-05" />
    </inertial>
    <visual>
      <origin
        xyz="0 0 0"
        rpy="0 0 0" />
      <geometry>
        <mesh
          filename="package://Project2_Assembly/meshes/right_front_knee_link1.STL" />
      </geometry>
      <material
        name="">
        <color
          rgba="0.792156862745098 0.819607843137255 0.933333333333333 1" />
      </material>
    </visual>
    <collision>
      <origin
        xyz="0 0 0"
        rpy="0 0 0" />
      <geometry>
        <mesh
          filename="package://Project2_Assembly/meshes/right_front_knee_link1.STL" />
      </geometry>
    </collision>
  </link>
  <joint
    name="right_front_knee_joint1"
    type="continuous">
    <origin
      xyz="0 0 0"
      rpy="0 0 -0.444918552874764" />
    <parent
      link="right_front_knee_link" />
    <child
      link="right_front_knee_link1" />
    <axis
      xyz="0 0 1" />
  </joint>
  <link
    name="right_front_dummy_link">
    <inertial>
      <origin
        xyz="0.0245008866497047 0.0254000000000001 0.00635000000000002"
        rpy="0 0 0" />
      <mass
        value="0.0573547240000001" />
      <inertia
        ixx="1.31052198647767E-05"
        ixy="-5.12851979782877E-20"
        ixz="-2.58345048912562E-20"
        iyy="4.03881189381034E-05"
        iyz="1.83170874843742E-20"
        izz="5.19515482305534E-05" />
    </inertial>
    <visual>
      <origin
        xyz="0 0 0"
        rpy="0 0 0" />
      <geometry>
        <mesh
          filename="package://Project2_Assembly/meshes/right_front_dummy_link.STL" />
      </geometry>
      <material
        name="">
        <color
          rgba="0.792156862745098 0.819607843137255 0.933333333333333 1" />
      </material>
    </visual>
    <collision>
      <origin
        xyz="0 0 0"
        rpy="0 0 0" />
      <geometry>
        <mesh
          filename="package://Project2_Assembly/meshes/right_front_dummy_link.STL" />
      </geometry>
    </collision>
  </link>
  <joint
    name="right_front_dummy_joint"
    type="fixed">
    <origin
      xyz="-0.0888999999999999 -0.0254000000000002 -0.014975180787454"
      rpy="0 0 0" />
    <parent
      link="right_front_knee_link1" />
    <child
      link="right_front_dummy_link" />
    <axis
      xyz="0 0 0" />
  </joint>
  <link
    name="right_rear_hip_link">
    <inertial>
      <origin
        xyz="-5.55111512312578E-17 -9.71445146547012E-17 0.03383948887112"
        rpy="0 0 0" />
      <mass
        value="0.0772222198144586" />
      <inertia
        ixx="4.25551704324029E-05"
        ixy="-4.2351647362715E-22"
        ixz="2.15993401549847E-20"
        iyy="4.25551704324029E-05"
        iyz="7.45388993583784E-20"
        izz="1.86827577508111E-05" />
    </inertial>
    <visual>
      <origin
        xyz="0 0 0"
        rpy="0 0 0" />
      <geometry>
        <mesh
          filename="package://Project2_Assembly/meshes/right_rear_hip_link.STL" />
      </geometry>
      <material
        name="">
        <color
          rgba="0.792156862745098 0.819607843137255 0.933333333333333 1" />
      </material>
    </visual>
    <collision>
      <origin
        xyz="0 0 0"
        rpy="0 0 0" />
      <geometry>
        <mesh
          filename="package://Project2_Assembly/meshes/right_rear_hip_link.STL" />
      </geometry>
    </collision>
  </link>
  <joint
    name="right_rear_hip_joint"
    type="fixed">
    <origin
      xyz="0.101600000000001 0.0550605111288811 -0.0787400000000002"
      rpy="1.5707963267949 -1.01459157286801 3.14159265358979" />
    <parent
      link="base_link" />
    <child
      link="right_rear_hip_link" />
    <axis
      xyz="0 0 1" />
  </joint>
  <link
    name="right_rear_hip_link1">
    <inertial>
      <origin
        xyz="-0.0635000000001462 -1.87239113103033E-13 0.0028894888711179"
        rpy="0 0 0" />
      <mass
        value="0.0561945800618472" />
      <inertia
        ixx="1.42240417239566E-05"
        ixy="2.96461531539005E-20"
        ixz="1.10537799616686E-19"
        iyy="3.81793048154063E-05"
        iyz="-3.3881317890172E-21"
        izz="5.0892742569667E-05" />
    </inertial>
    <visual>
      <origin
        xyz="0 0 0"
        rpy="0 0 0" />
      <geometry>
        <mesh
          filename="package://Project2_Assembly/meshes/right_rear_hip_link1.STL" />
      </geometry>
      <material
        name="">
        <color
          rgba="0.792156862745098 0.819607843137255 0.933333333333333 1" />
      </material>
    </visual>
    <collision>
      <origin
        xyz="0 0 0"
        rpy="0 0 0" />
      <geometry>
        <mesh
          filename="package://Project2_Assembly/meshes/right_rear_hip_link1.STL" />
      </geometry>
    </collision>
  </link>
  <joint
    name="right_rear_hip_joint1"
    type="continuous">
    <origin
      xyz="0 0 0.05"
      rpy="0 0 0.449320374729743" />
    <parent
      link="right_rear_hip_link" />
    <child
      link="right_rear_hip_link1" />
    <axis
      xyz="0 0 1" />
  </joint>
  <link
    name="right_rear_knee_link">
    <inertial>
      <origin
        xyz="8.22120149734928E-14 1.21069820835373E-13 -0.00346051112888224"
        rpy="0 0 0" />
      <mass
        value="0.0514814798763058" />
      <inertia
        ixx="1.10712638523325E-05"
        ixy="-2.64697796016969E-21"
        ixz="5.0821976835258E-21"
        iyy="1.10712638523325E-05"
        iyz="-3.3881317890172E-21"
        izz="1.66068957784987E-05" />
    </inertial>
    <visual>
      <origin
        xyz="0 0 0"
        rpy="0 0 0" />
      <geometry>
        <mesh
          filename="package://Project2_Assembly/meshes/right_rear_knee_link.STL" />
      </geometry>
      <material
        name="">
        <color
          rgba="0.792156862745098 0.819607843137255 0.933333333333333 1" />
      </material>
    </visual>
    <collision>
      <origin
        xyz="0 0 0"
        rpy="0 0 0" />
      <geometry>
        <mesh
          filename="package://Project2_Assembly/meshes/right_rear_knee_link.STL" />
      </geometry>
    </collision>
  </link>
  <joint
    name="right_rear_knee_joint"
    type="fixed">
    <origin
      xyz="-0.127000000000146 0 0"
      rpy="0 0 -0.974827855737759" />
    <parent
      link="right_rear_hip_link1" />
    <child
      link="right_rear_knee_link" />
    <axis
      xyz="0 0 1" />
  </joint>
  <link
    name="right_rear_knee_link1">
    <inertial>
      <origin
        xyz="-0.0643991133501527 -3.34177130412172E-14 -0.00981051112888243"
        rpy="0 0 0" />
      <mass
        value="0.0573547239999999" />
      <inertia
        ixx="1.31052198647766E-05"
        ixy="6.35704844359253E-20"
        ixz="-5.59041745187838E-20"
        iyy="4.03881189381032E-05"
        iyz="7.50418251708107E-21"
        izz="5.19515482305532E-05" />
    </inertial>
    <visual>
      <origin
        xyz="0 0 0"
        rpy="0 0 0" />
      <geometry>
        <mesh
          filename="package://Project2_Assembly/meshes/right_rear_knee_link1.STL" />
      </geometry>
      <material
        name="">
        <color
          rgba="0.792156862745098 0.819607843137255 0.933333333333333 1" />
      </material>
    </visual>
    <collision>
      <origin
        xyz="0 0 0"
        rpy="0 0 0" />
      <geometry>
        <mesh
          filename="package://Project2_Assembly/meshes/right_rear_knee_link1.STL" />
      </geometry>
    </collision>
  </link>
  <joint
    name="right_rear_knee_joint1"
    type="continuous">
    <origin
      xyz="0 0 0"
      rpy="0 0 1.20572298824763" />
    <parent
      link="right_rear_knee_link" />
    <child
      link="right_rear_knee_link1" />
    <axis
      xyz="0 0 1" />
  </joint>
  <link
    name="right_rear_dummy_link">
    <inertial>
      <origin
        xyz="0.0245008866497048 0.0254 0.00634999999999997"
        rpy="0 0 0" />
      <mass
        value="0.0573547239999999" />
      <inertia
        ixx="1.31052198647766E-05"
        ixy="6.80140986865601E-20"
        ixz="-5.03984603616309E-20"
        iyy="4.03881189381032E-05"
        iyz="4.12928561786471E-21"
        izz="5.19515482305532E-05" />
    </inertial>
    <visual>
      <origin
        xyz="0 0 0"
        rpy="0 0 0" />
      <geometry>
        <mesh
          filename="package://Project2_Assembly/meshes/right_rear_dummy_link.STL" />
      </geometry>
      <material
        name="">
        <color
          rgba="0.792156862745098 0.819607843137255 0.933333333333333 1" />
      </material>
    </visual>
    <collision>
      <origin
        xyz="0 0 0"
        rpy="0 0 0" />
      <geometry>
        <mesh
          filename="package://Project2_Assembly/meshes/right_rear_dummy_link.STL" />
      </geometry>
    </collision>
  </link>
  <joint
    name="right_rear_dummy_joint"
    type="fixed">
    <origin
      xyz="-0.0888999999998575 -0.0254000000000334 -0.0161605111288824"
      rpy="0 0 0" />
    <parent
      link="right_rear_knee_link1" />
    <child
      link="right_rear_dummy_link" />
    <axis
      xyz="0 0 0" />
  </joint>

  <transmission name="right_front_hip_trans">
    <type>transmission_interface/SimpleTransmission</type>
    <joint name="right_front_hip_joint1">
      <hardwareInterface>hardware_interface/EffortJointInterface</hardwareInterface>
    </joint>
    <actuator name="foo_motor1">
      <mechanicalReduction>1</mechanicalReduction>
      <hardwareInterface>hardware_interface/EffortJointInterface</hardwareInterface>
    </actuator>
  </transmission>

  <transmission name="right_front_knee_trans">
    <type>transmission_interface/SimpleTransmission</type>
    <joint name="right_front_knee_joint1">
      <hardwareInterface>hardware_interface/EffortJointInterface</hardwareInterface>
    </joint>
    <actuator name="foo_motor2">
      <mechanicalReduction>1</mechanicalReduction>
      <hardwareInterface>hardware_interface/EffortJointInterface</hardwareInterface>
    </actuator>
  </transmission>

  <transmission name="right_rear_hip_trans">
    <type>transmission_interface/SimpleTransmission</type>
    <joint name="right_rear_hip_joint1">
      <hardwareInterface>hardware_interface/EffortJointInterface</hardwareInterface>
    </joint>
    <actuator name="foo_motor3">
      <mechanicalReduction>1</mechanicalReduction>
      <hardwareInterface>hardware_interface/EffortJointInterface</hardwareInterface>
    </actuator>
  </transmission>

  <transmission name="right_rear_knee_trans">
    <type>transmission_interface/SimpleTransmission</type>
    <joint name="right_rear_knee_joint1">
      <hardwareInterface>hardware_interface/EffortJointInterface</hardwareInterface>
    </joint>
    <actuator name="foo_motor4">
      <mechanicalReduction>1</mechanicalReduction>
      <hardwareInterface>hardware_interface/EffortJointInterface</hardwareInterface>
    </actuator>
  </transmission>


  <transmission name="left_front_hip_trans">
    <type>transmission_interface/SimpleTransmission</type>
    <joint name="left_front_hip_joint1">
      <hardwareInterface>hardware_interface/EffortJointInterface</hardwareInterface>
    </joint>
    <actuator name="foo_motor5">
      <mechanicalReduction>1</mechanicalReduction>
      <hardwareInterface>hardware_interface/EffortJointInterface</hardwareInterface>
    </actuator>
  </transmission>


  <transmission name="left_front_knee_trans">
    <type>transmission_interface/SimpleTransmission</type>
    <joint name="left_front_knee_joint1">
      <hardwareInterface>hardware_interface/EffortJointInterface</hardwareInterface>
    </joint>
    <actuator name="foo_motor6">
      <mechanicalReduction>1</mechanicalReduction>
      <hardwareInterface>hardware_interface/EffortJointInterface</hardwareInterface>
    </actuator>
  </transmission>

  <transmission name="left_rear_hip_trans">
    <type>transmission_interface/SimpleTransmission</type>
    <joint name="left_rear_hip_joint1">
      <hardwareInterface>hardware_interface/EffortJointInterface</hardwareInterface>
    </joint>
    <actuator name="foo_motor7">
      <mechanicalReduction>1</mechanicalReduction>
      <hardwareInterface>hardware_interface/EffortJointInterface</hardwareInterface>
    </actuator>
  </transmission>
  
  <transmission name="left_rear_knee_trans">
    <type>transmission_interface/SimpleTransmission</type>
    <joint name="left_rear_knee_joint1">
      <hardwareInterface>hardware_interface/EffortJointInterface</hardwareInterface>
    </joint>
    <actuator name="foo_motor8">
      <mechanicalReduction>1</mechanicalReduction>
      <hardwareInterface>hardware_interface/EffortJointInterface</hardwareInterface>
    </actuator>
  </transmission>
<!--
  <transmission name="right_rear_dummy_trans">
    <type>transmission_interface/SimpleTransmission</type>
    <joint name="right_rear_dummy_joint">
      <hardwareInterface>hardware_interface/EffortJointInterface</hardwareInterface>
    </joint>
    <actuator name="foo_motor15">
      <mechanicalReduction>1</mechanicalReduction>
      <hardwareInterface>hardware_interface/EffortJointInterface</hardwareInterface>
    </actuator>
  </transmission>
-->
  <transmission name="left_arm_trans1">
    <type>transmission_interface/SimpleTransmission</type>
    <joint name="left_arm_joint1">
      <hardwareInterface>hardware_interface/EffortJointInterface</hardwareInterface>
    </joint>
    <actuator name="foo_motor9">
      <mechanicalReduction>1</mechanicalReduction>
      <hardwareInterface>hardware_interface/EffortJointInterface</hardwareInterface>
    </actuator>
  </transmission>

  <transmission name="right_arm_trans1">
    <type>transmission_interface/SimpleTransmission</type>
    <joint name="right_arm_joint1">
      <hardwareInterface>hardware_interface/EffortJointInterface</hardwareInterface>
    </joint>
    <actuator name="foo_motor10">
      <mechanicalReduction>1</mechanicalReduction>
      <hardwareInterface>hardware_interface/EffortJointInterface</hardwareInterface>
    </actuator>
  </transmission>


<transmission name="left_arm_trans3">
    <type>transmission_interface/SimpleTransmission</type>
    <joint name="left_arm_joint3">
      <hardwareInterface>hardware_interface/EffortJointInterface</hardwareInterface>
    </joint>
    <actuator name="foo_motor11">
      <mechanicalReduction>1</mechanicalReduction>
      <hardwareInterface>hardware_interface/EffortJointInterface</hardwareInterface>
    </actuator>
  </transmission>

  <transmission name="right_arm_trans3">
    <type>transmission_interface/SimpleTransmission</type>
    <joint name="right_arm_joint3">
      <hardwareInterface>hardware_interface/EffortJointInterface</hardwareInterface>
    </joint>
    <actuator name="foo_motor12">
      <mechanicalReduction>1</mechanicalReduction>
      <hardwareInterface>hardware_interface/EffortJointInterface</hardwareInterface>
    </actuator>
  </transmission>


<transmission name="left_arm_trans5">
    <type>transmission_interface/SimpleTransmission</type>
    <joint name="left_arm_joint5">
      <hardwareInterface>hardware_interface/EffortJointInterface</hardwareInterface>
    </joint>
    <actuator name="foo_motor13">
      <mechanicalReduction>1</mechanicalReduction>
      <hardwareInterface>hardware_interface/EffortJointInterface</hardwareInterface>
    </actuator>
  </transmission>

  <transmission name="right_arm_trans5">
    <type>transmission_interface/SimpleTransmission</type>
    <joint name="right_arm_joint5">
      <hardwareInterface>hardware_interface/EffortJointInterface</hardwareInterface>
    </joint>
    <actuator name="foo_motor14">
      <mechanicalReduction>1</mechanicalReduction>
      <hardwareInterface>hardware_interface/EffortJointInterface</hardwareInterface>
    </actuator>
  </transmission>
</robot>
